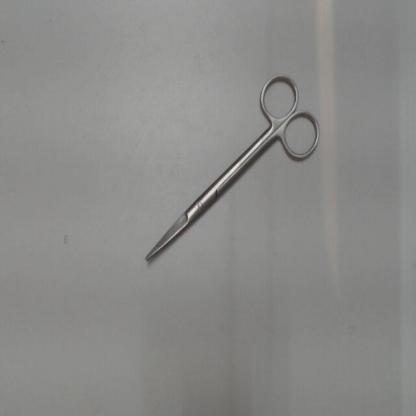Curved Mayo Scissors: (142, 66, 328, 270)
